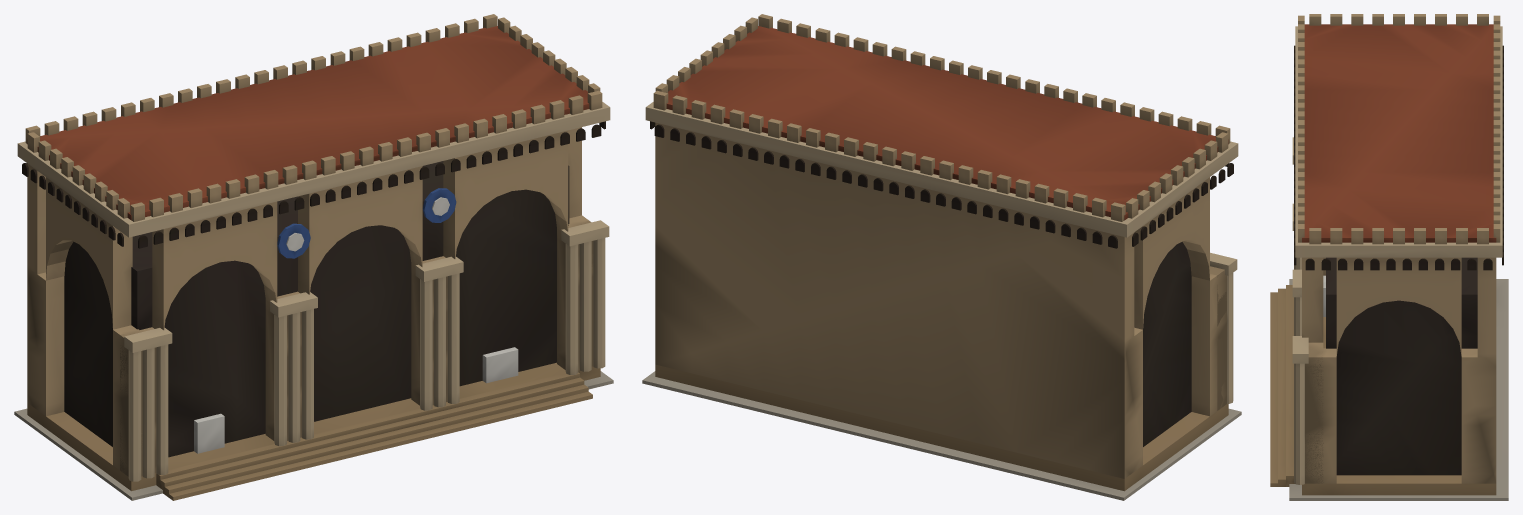
The model's file is loggia-lanzi-1600.glb.
3 views of the same model, side by side, from view 1: azimuth 30°, elevation 25°; view 2: azimuth 150°, elevation 25°; view 3: azimuth 270°, elevation 25° (orthographic). The views are drawn at different scales.
Visible parts, largest first — view 1: p0_platform, p2_terrace, p1_arches, p3_statues; view 2: p0_platform, p2_terrace, p1_arches; view 3: p2_terrace, p0_platform, p1_arches.
Boxes of the visible parts, x1,y1,x2,y2 form: p0_platform: [14, 161, 613, 500]; p2_terrace: [17, 14, 610, 248]; p1_arches: [27, 127, 609, 481]; p3_statues: [194, 347, 518, 453]; p0_platform: [642, 122, 1241, 500]; p2_terrace: [645, 14, 1238, 248]; p1_arches: [1124, 177, 1237, 478]; p2_terrace: [1294, 14, 1503, 270]; p0_platform: [1270, 257, 1508, 500]; p1_arches: [1292, 137, 1496, 484].
Size of the model in its own units: 39.19 by 22.32 by 17.95.
